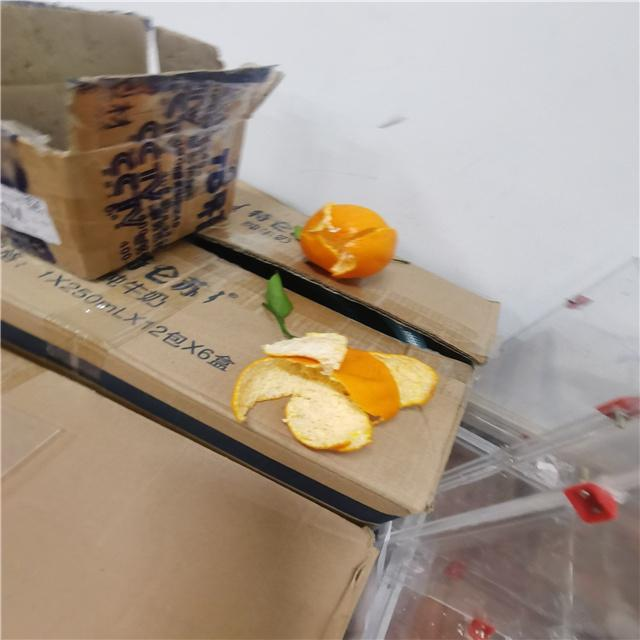orange-peel: (230, 330, 438, 453), (297, 201, 397, 279)
